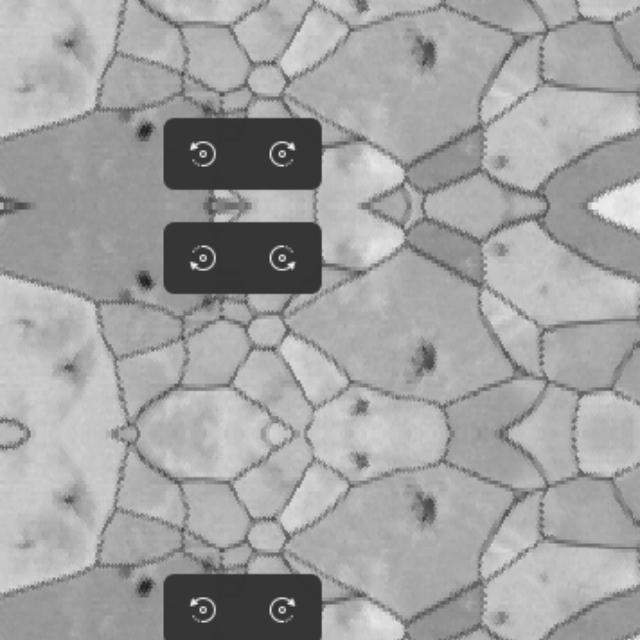good_void: (413, 336, 445, 385), (413, 485, 445, 534), (413, 28, 445, 77), (342, 396, 379, 425), (342, 445, 379, 474), (130, 118, 158, 146), (130, 268, 158, 295), (130, 575, 158, 602), (342, 0, 379, 18), (6, 314, 38, 334), (6, 536, 38, 556), (6, 79, 38, 99), (50, 359, 82, 378), (50, 492, 82, 511), (50, 36, 82, 54), (194, 297, 221, 315), (194, 555, 221, 573), (194, 98, 221, 116), (488, 239, 509, 261), (488, 609, 509, 631), (488, 152, 509, 174), (116, 288, 138, 307), (116, 563, 138, 582), (116, 106, 138, 125), (531, 282, 553, 300), (531, 570, 553, 588), (531, 113, 553, 131)
